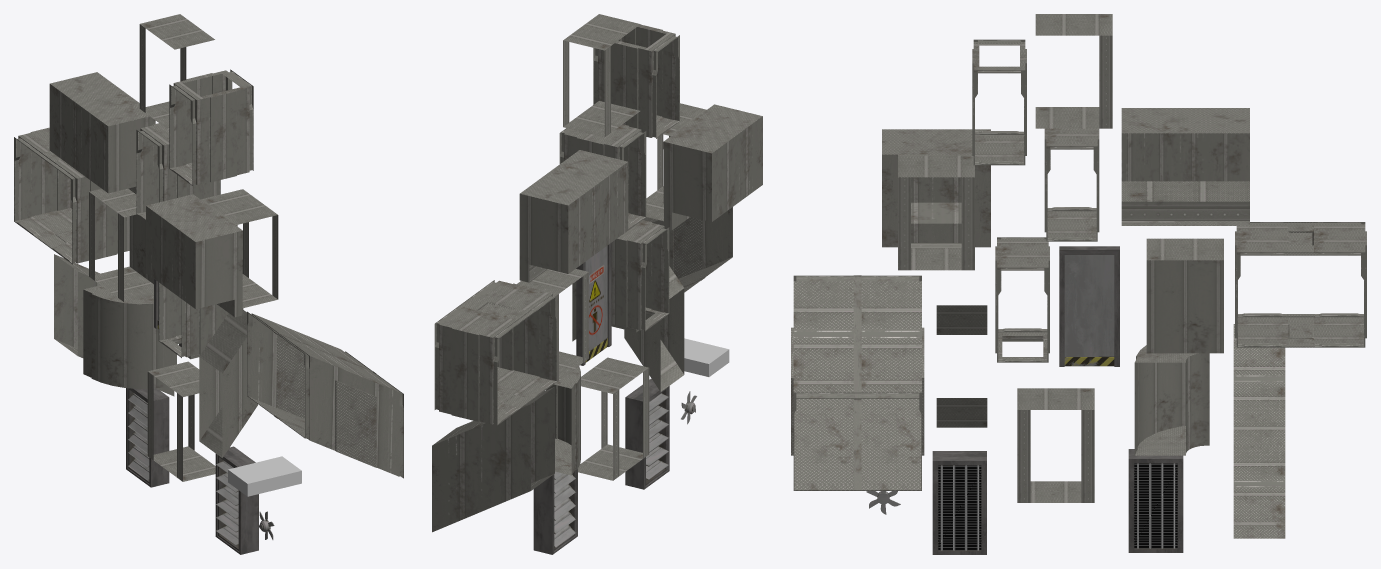
The model's file is VentPKG.fbx.
The picture shows the model from 3 angles, left to right: view 1: azimuth 30°, elevation 25°; view 2: azimuth 150°, elevation 25°; view 3: azimuth 270°, elevation 25°; orthographic projection. The views are drawn at different scales.
Visible parts, largest first — view 1: vent_30_double.mo, vent_alcove_a.mo, vent_double_straight.mo, vent_alcove_b.mo, vent_open_top.mo, vent_corner_a.mo, vent_crouch.mo, vent_L.mo, vent_X.mo, vent_straight_a.mo, vent_fan.mo, vent_grate.mo (+4 smaller); view 2: vent_double_straight.mo, vent_30_stright.mo, vent_alcove_a.mo, vent_alcove_b.mo, vent_open_top.mo, vent_open_bottom.mo, vent_X.mo, vent_30_double.mo, vent_open.mo, vent_grate.mo, vent_crouch.mo, vent_straight_a.mo (+6 smaller); view 3: vent_30_double.mo, vent_alcove_b.mo, vent_alcove_a.mo, vent_30_stright.mo, vent_double_straight.mo, vent_L.mo, vent_corner_a.mo, vent_grate.mo, vent_door_door.mo, vent_fan.mo, vent_X.mo, vent_open.mo (+5 smaller).
Part boxes in pixels (x1,y1,x2,y2): vent_30_double.mo: (247, 311, 403, 478); vent_alcove_a.mo: (146, 189, 278, 317); vent_double_straight.mo: (14, 127, 129, 264); vent_alcove_b.mo: (49, 72, 155, 193); vent_open_top.mo: (169, 69, 253, 185); vent_corner_a.mo: (83, 285, 176, 388); vent_crouch.mo: (199, 309, 257, 457); vent_L.mo: (89, 188, 153, 302); vent_X.mo: (147, 361, 215, 481); vent_straight_a.mo: (136, 123, 220, 220); vent_fan.mo: (126, 388, 169, 487); vent_grate.mo: (215, 446, 258, 554); vent_double_straight.mo: (434, 280, 557, 425); vent_30_stright.mo: (432, 387, 554, 532); vent_alcove_a.mo: (646, 103, 762, 230); vent_alcove_b.mo: (519, 150, 628, 282); vent_open_top.mo: (593, 24, 679, 138); vent_open_bottom.mo: (611, 220, 669, 332); vent_X.mo: (578, 357, 649, 480); vent_30_double.mo: (572, 207, 732, 341); vent_open.mo: (563, 14, 640, 137); vent_grate.mo: (625, 378, 669, 489); vent_crouch.mo: (624, 266, 684, 391); vent_straight_a.mo: (559, 124, 646, 234); vent_30_double.mo: (791, 275, 924, 490); vent_alcove_b.mo: (1121, 108, 1249, 225); vent_alcove_a.mo: (882, 129, 990, 270); vent_30_stright.mo: (1233, 324, 1285, 538); vent_double_straight.mo: (1235, 222, 1366, 347); vent_L.mo: (1146, 238, 1223, 353); vent_corner_a.mo: (1134, 345, 1209, 455); vent_grate.mo: (932, 451, 986, 554); vent_door_door.mo: (1064, 255, 1114, 366); vent_fan.mo: (1128, 449, 1183, 552); vent_X.mo: (1017, 388, 1094, 502); vent_open.mo: (1035, 14, 1112, 128).
Bounding box in the file's own units: 496 × 1339 × 1341.
